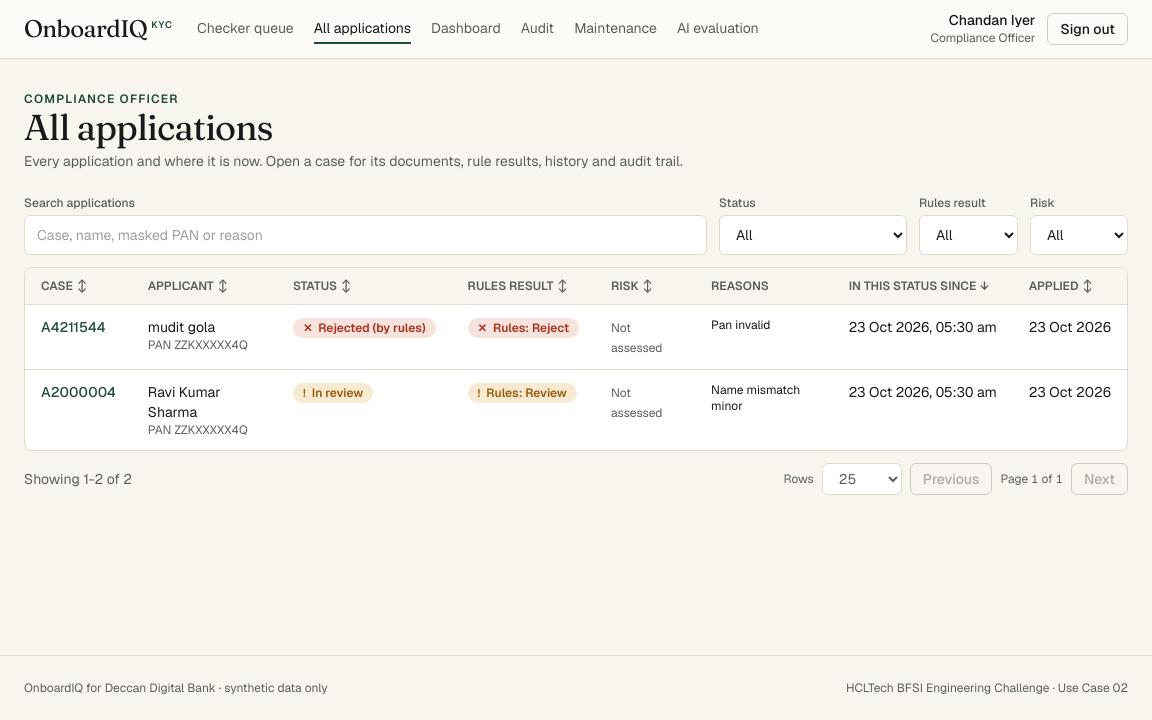
it: all applications (compliance officer) › finds an auto-rejected application that no officer queue shows, and links to its case
The width and height of the screenshot is (1152, 720).
Type "mudi" into the search field labelled "Search applications" at point(366, 234), box [24,214,707,254]
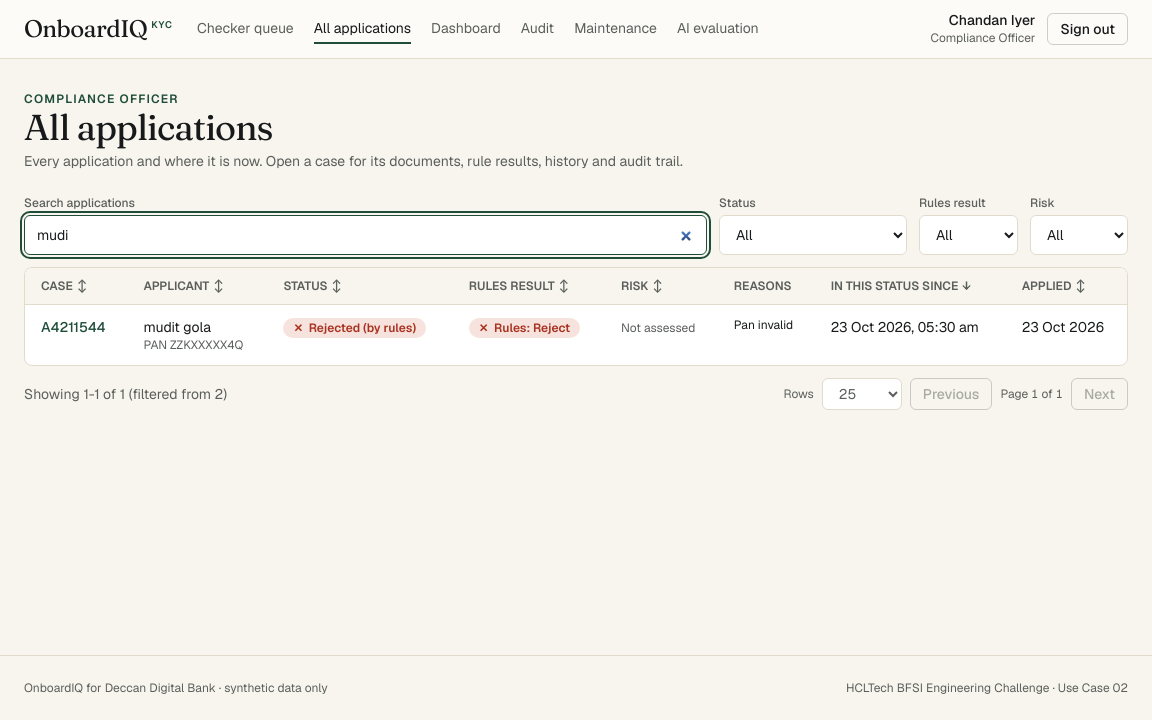
Expected: the text "Rejected (by rules)" is shown, [309,320,416,336]
Result: the link "A2000004" is gone
